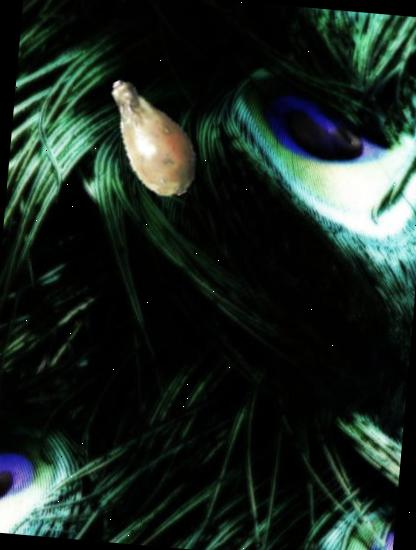Cactus: (81, 66, 222, 207)
